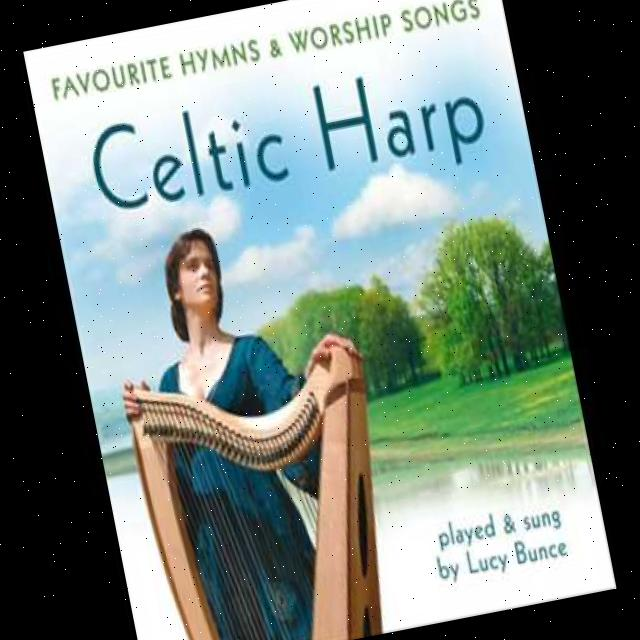harp: (109, 323, 420, 640)
